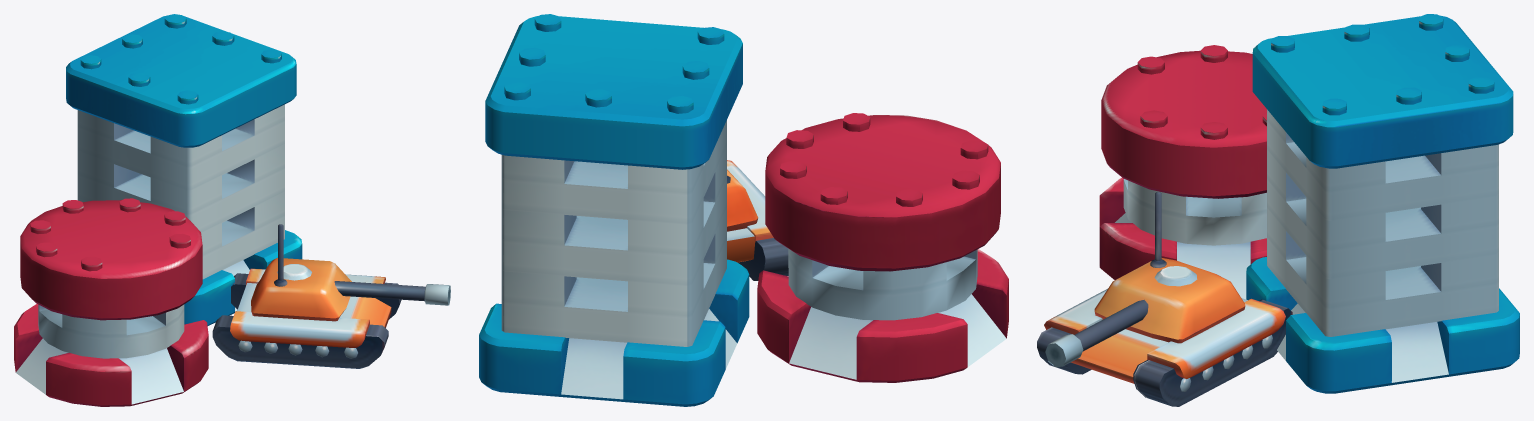
File: model_btn_mini_game_tower_capture.fbx
The picture shows the model from 3 angles, left to right: view 1: azimuth 30°, elevation 25°; view 2: azimuth 150°, elevation 25°; view 3: azimuth 270°, elevation 25°; orthographic projection. The views are drawn at different scales.
Parts seen in each view (by area): view 1: model_btn_mini_game_tower_capture; view 2: model_btn_mini_game_tower_capture; view 3: model_btn_mini_game_tower_capture.
Part boxes in pixels (x1,y1,x2,y2): model_btn_mini_game_tower_capture: (14, 14, 450, 406); model_btn_mini_game_tower_capture: (479, 14, 1008, 406); model_btn_mini_game_tower_capture: (1037, 14, 1519, 406).
Bounding box in the file's own units: 98.52 × 59.23 × 93.3.
